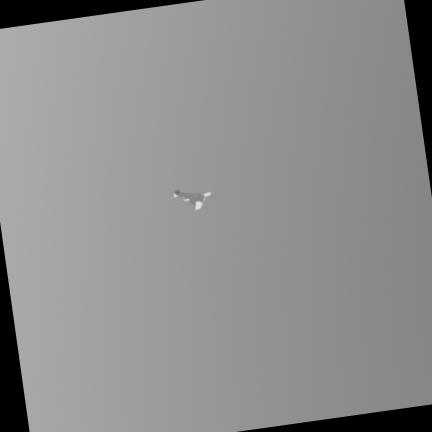Shahed: (172, 189, 209, 209)
